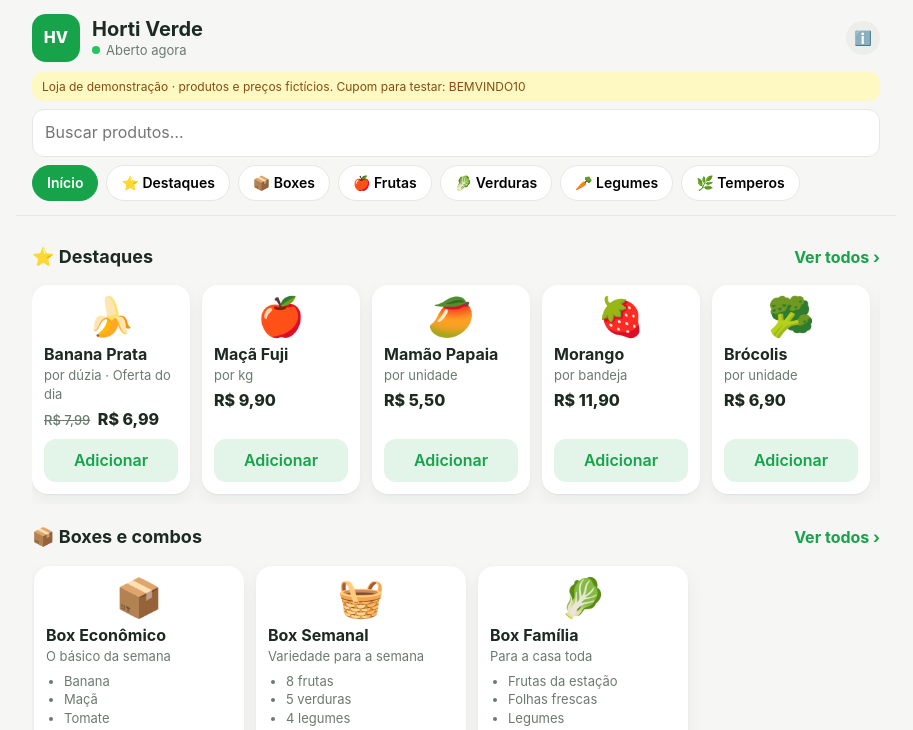
Test case: vitrine (loja demonstração) › mostra destaques, categorias com "Ver todos" e busca sem acento
expect the heading "⭐ Destaques" is shown: met, box [32,246,153,268]
Type "maca" into the search field labelled "Buscar produtos" at {"x": 456, "y": 133}, box [32,109,880,157]
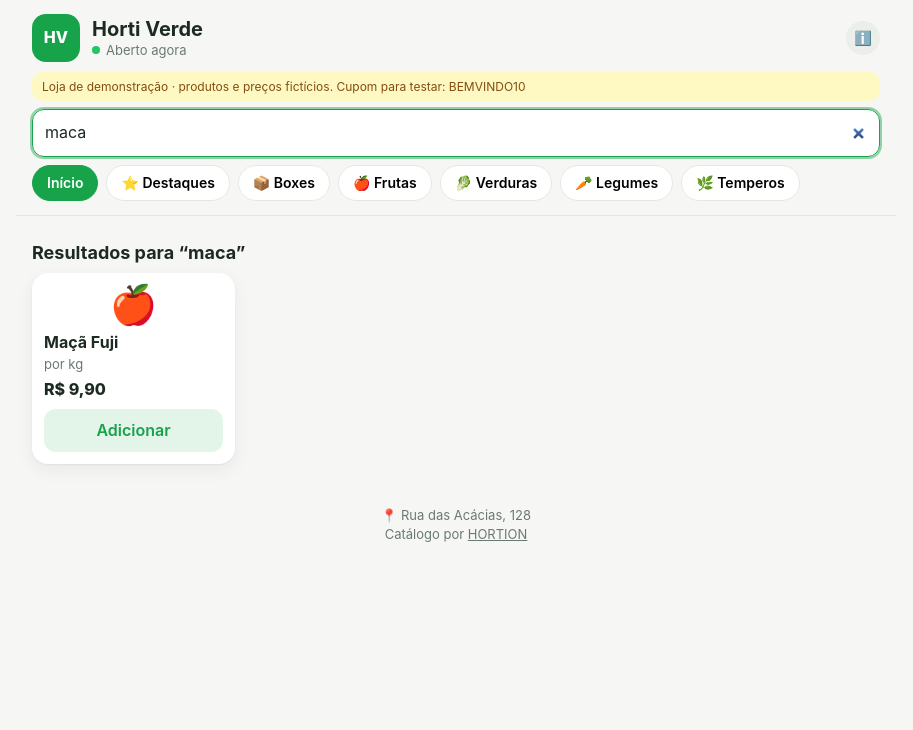
expect the text "Maçã Fuji" is shown: met, box [44,332,118,352]
expect the heading "Resultados para “maca”" is shown: met, box [32,242,245,263]
Replace the text in the search field named "Buscar produtos" with "zzzz" at {"x": 456, "y": 133}, box [32,109,880,157]
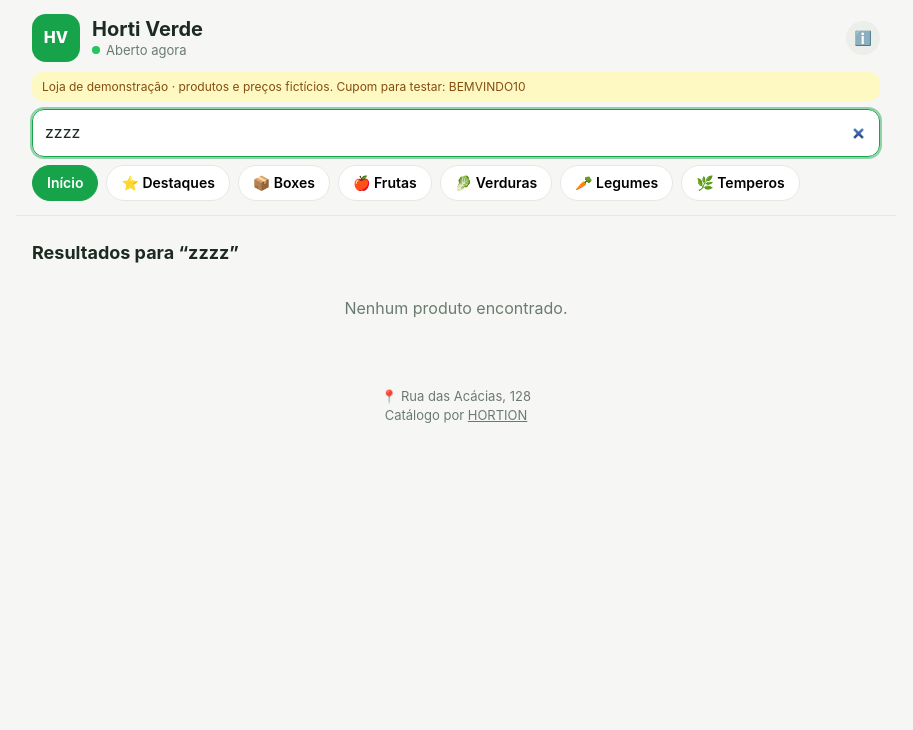
expect the text "Nenhum produto encontrado." is shown: met, box [344,298,568,318]
